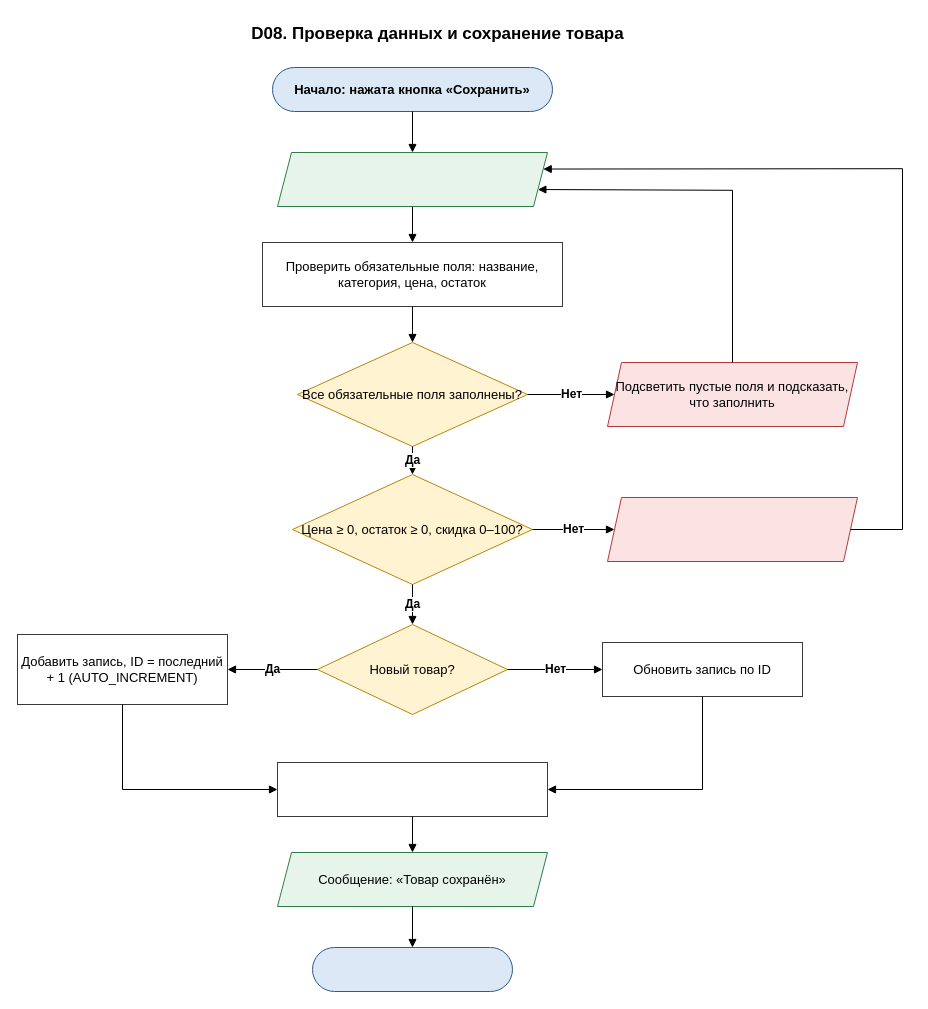
Some shapes in this 928 by 1009 pixel diagram are drawn without their labels. Each missing label, with the box of its shape:
Данные товара на форме: (276, 152, 548, 206)
Конец: (312, 946, 512, 992)
Обновить список товаров в каталоге: (276, 762, 548, 816)
Ошибка: значение не может быть отрицательным. Исправьте поле: (606, 496, 858, 562)
